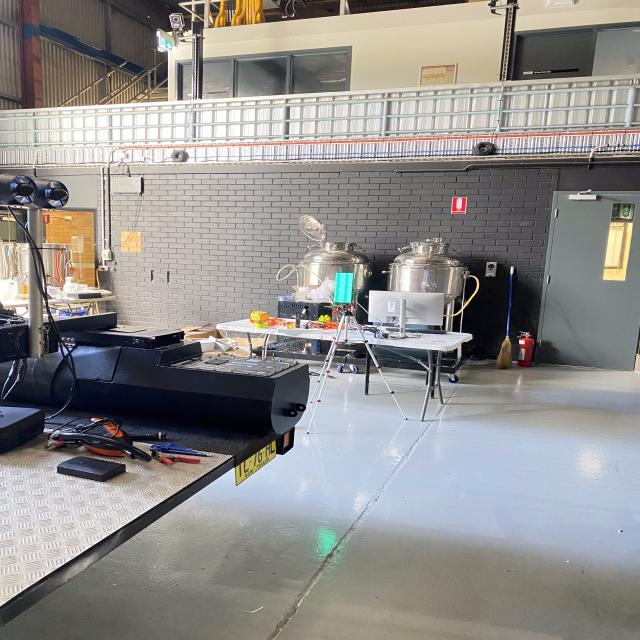matrix: (334, 270, 354, 304)
